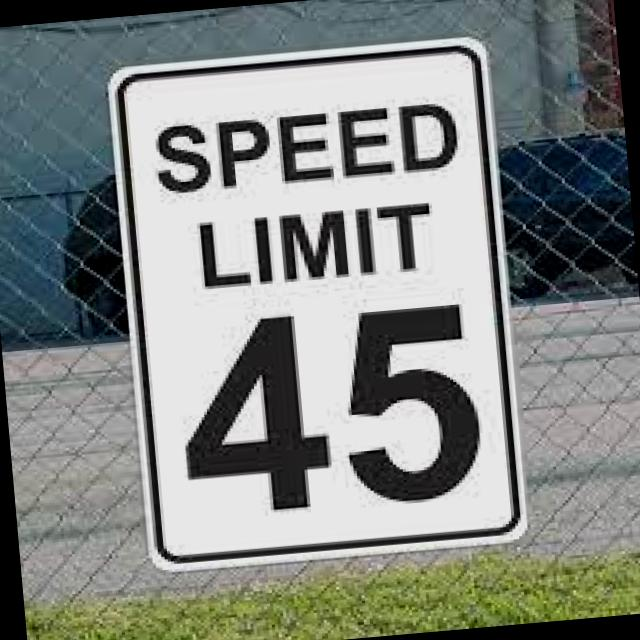Speed Limit Signs: (102, 29, 534, 576)
